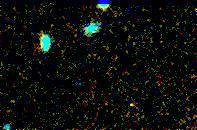star: (116, 86, 146, 116)
